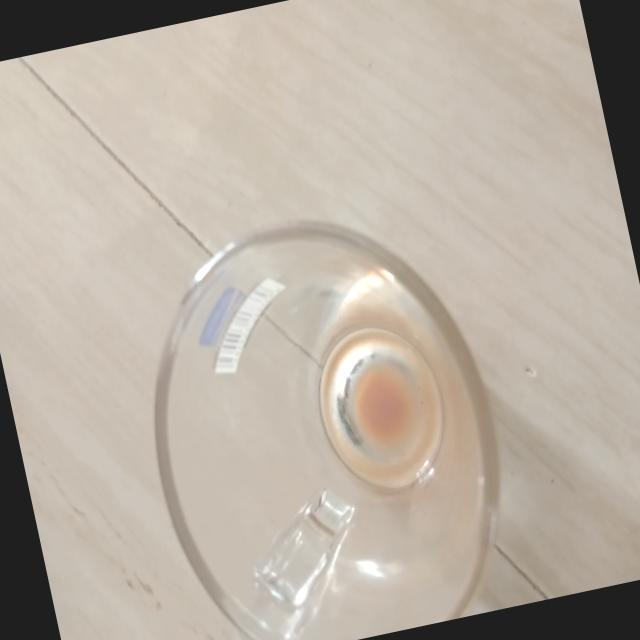glass-VX4N: (101, 184, 535, 640)
